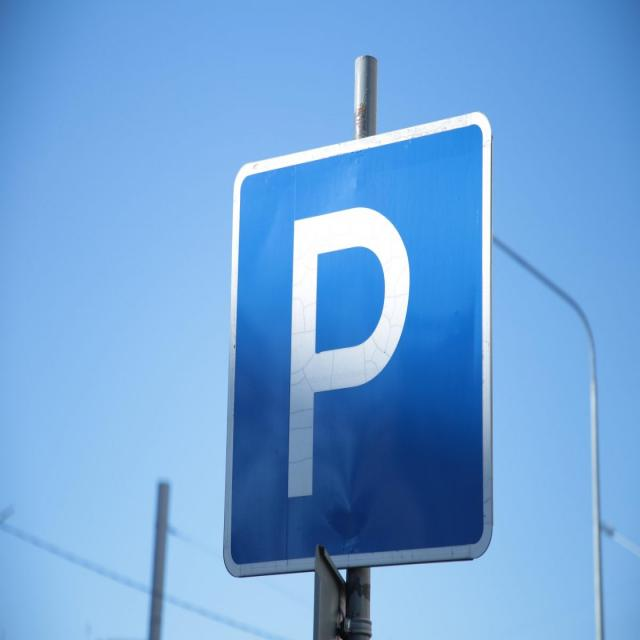parking: (212, 100, 501, 584)
